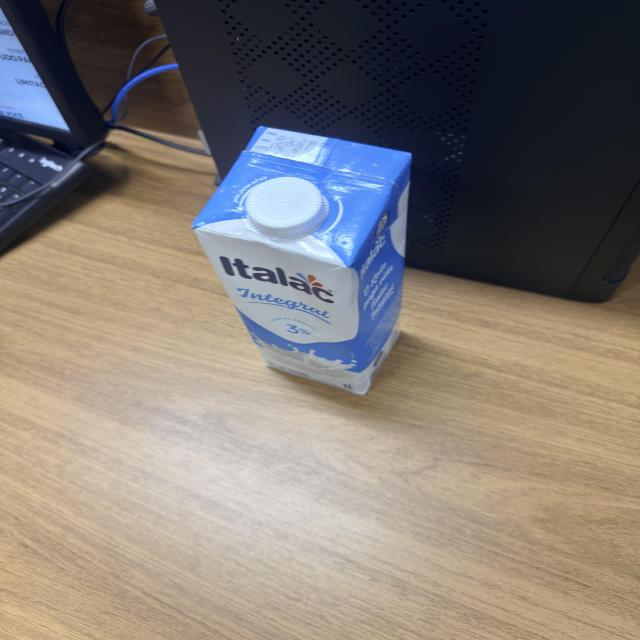Caixa de Leite: (188, 127, 410, 391)
